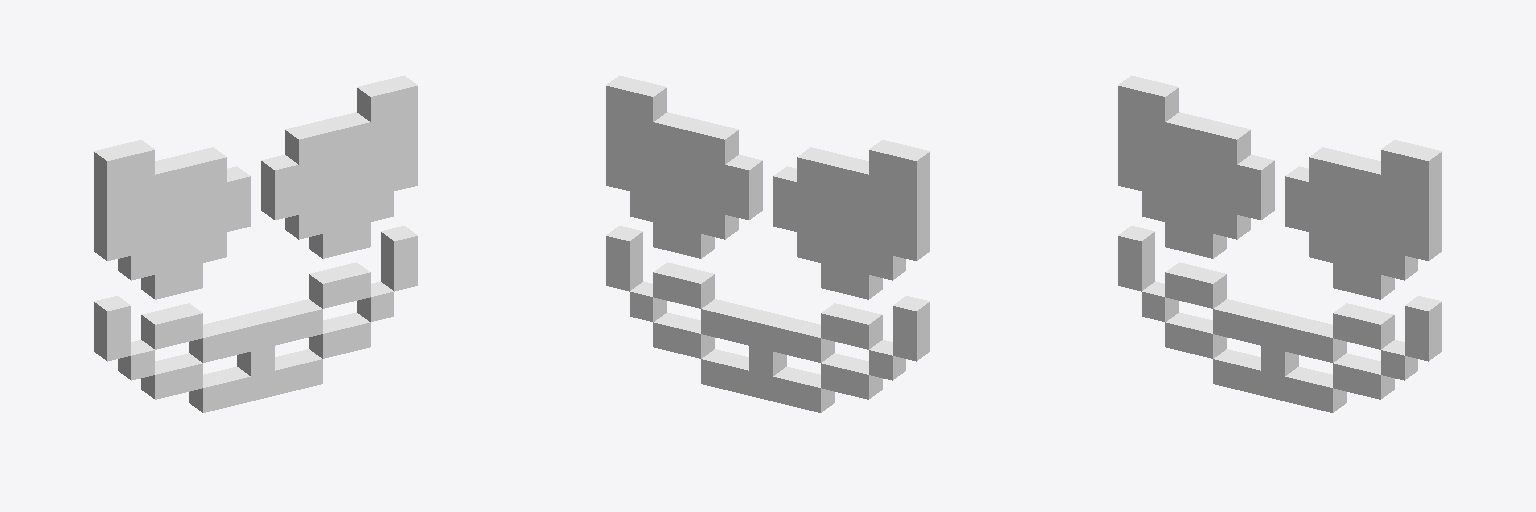
Rendered from FygarGhost2Cardinal.obj.
3 views of the same model, side by side, from view 1: azimuth 30°, elevation 25°; view 2: azimuth 150°, elevation 25°; view 3: azimuth 330°, elevation 25° (orthographic).
Parts seen in each view (by area): view 1: FygarGhost2; view 2: FygarGhost2; view 3: FygarGhost2.
Part boxes in pixels (left/top/right/bottom): FygarGhost2: left=94, top=75, right=417, bottom=412; FygarGhost2: left=606, top=75, right=929, bottom=412; FygarGhost2: left=1118, top=75, right=1441, bottom=412.
Bounding box in the file's own units: 1.3 × 1.1 × 0.1.